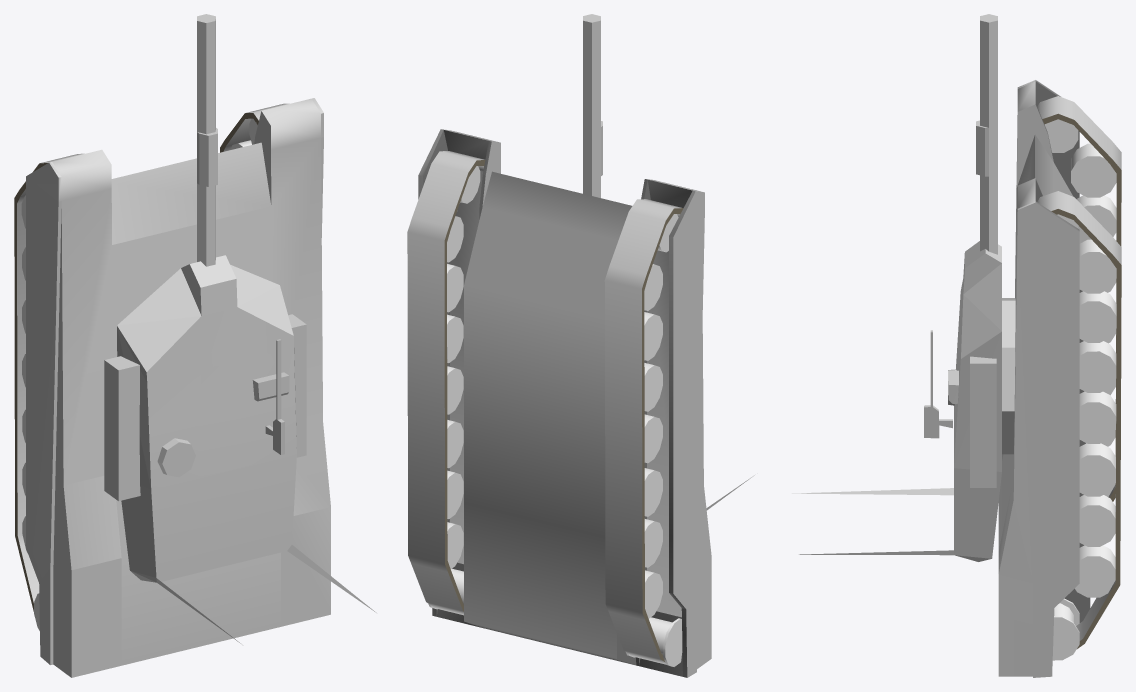
The picture shows the model from 3 angles, left to right: view 1: azimuth 30°, elevation 25°; view 2: azimuth 150°, elevation 25°; view 3: azimuth 270°, elevation 25°; orthographic projection. The views are drawn at different scales.
Parts seen in each view (by area): view 1: db_m1a1_p14432_Geometry_0.001, db_m1a1_d4_turtop_p13825_Geometry_0.001, db_m1a1_d4_turside_p13658_Geometry_0.001, db_m1a1_d4_tbox1_p13787_Geometry_0.001, db_m1a1_d4_d5_gun_p13728_Geometry_0.001, db_m1a1_trackg_track_p15181_Geometry_0.001, db_m1a1_d4_boot_p13746_Geometry_0.001, db_m1a1_trackg_track_p15205_Geometry_0.001, db_m1a1_d4_tbox2_p13793_Geometry_0.001, db_m1a1_d4_hatch1_p13763_Geometry_0.001, db_m1a1_wheelg_wheel_p14507_Geometry_0.001, db_m1a1_d4_mgun_p13805_Geometry_0.001 (+3 smaller); view 2: db_m1a1_p14432_Geometry_0.001, db_m1a1_trackg_track_p15181_Geometry_0.001, db_m1a1_wheelg_wheel_p14507_Geometry_0.001, db_m1a1_wheelg_o2656_p16248_Geometry_0.001, db_m1a1_p14333_Geometry_0.001, db_m1a1_wheelg_o2655_p15684_Geometry_0.001, db_m1a1_d4_d5_gun_p13728_Geometry_0.001, db_m1a1_trackg_track_p15205_Geometry_0.001, db_m1a1_p14495_Geometry_0.001; view 3: db_m1a1_p14432_Geometry_0.001, db_m1a1_wheelg_wheel_p14507_Geometry_0.001, db_m1a1_d4_turside_p13658_Geometry_0.001, db_m1a1_wheelg_o2656_p16248_Geometry_0.001, db_m1a1_d4_d5_gun_p13728_Geometry_0.001, db_m1a1_wheelg_o2655_p15684_Geometry_0.001, db_m1a1_trackg_track_p15205_Geometry_0.001, db_m1a1_trackg_track_p15181_Geometry_0.001, db_m1a1_d4_tbox2_p13793_Geometry_0.001, db_m1a1_d4_turbott_p13838_Geometry_0.001, db_m1a1_p14333_Geometry_0.001, db_m1a1_d4_boot_p13746_Geometry_0.001 (+3 smaller).
Part boxes in pixels (x1,y1,x2,y2): db_m1a1_p14432_Geometry_0.001: (26,98,330,677); db_m1a1_d4_turtop_p13825_Geometry_0.001: (146,307,296,581); db_m1a1_d4_turside_p13658_Geometry_0.001: (117,265,296,582); db_m1a1_d4_tbox1_p13787_Geometry_0.001: (104,356,140,501); db_m1a1_d4_d5_gun_p13728_Geometry_0.001: (197,14,217,266); db_m1a1_trackg_track_p15181_Geometry_0.001: (17,103,289,602); db_m1a1_d4_boot_p13746_Geometry_0.001: (181,255,237,315); db_m1a1_trackg_track_p15205_Geometry_0.001: (14,113,258,611); db_m1a1_d4_tbox2_p13793_Geometry_0.001: (288,314,306,457); db_m1a1_d4_hatch1_p13763_Geometry_0.001: (157,438,195,477); db_m1a1_wheelg_wheel_p14507_Geometry_0.001: (21,119,257,630); db_m1a1_d4_mgun_p13805_Geometry_0.001: (265,339,284,454); db_m1a1_p14432_Geometry_0.001: (443,129,711,677); db_m1a1_trackg_track_p15181_Geometry_0.001: (407,151,681,664); db_m1a1_wheelg_wheel_p14507_Geometry_0.001: (430,166,682,666); db_m1a1_wheelg_o2656_p16248_Geometry_0.001: (429,166,682,666); db_m1a1_p14333_Geometry_0.001: (418,129,695,677); db_m1a1_wheelg_o2655_p15684_Geometry_0.001: (428,171,677,660); db_m1a1_d4_d5_gun_p13728_Geometry_0.001: (583,14,602,197); db_m1a1_trackg_track_p15205_Geometry_0.001: (444,160,683,661); db_m1a1_p14495_Geometry_0.001: (418,175,673,593); db_m1a1_p14432_Geometry_0.001: (998,80,1090,677); db_m1a1_wheelg_wheel_p14507_Geometry_0.001: (1045,119,1116,660); db_m1a1_d4_turside_p13658_Geometry_0.001: (954,263,1001,561); db_m1a1_wheelg_o2656_p16248_Geometry_0.001: (1044,119,1116,660); db_m1a1_d4_d5_gun_p13728_Geometry_0.001: (976,14,997,254); db_m1a1_wheelg_o2655_p15684_Geometry_0.001: (1046,125,1116,654); db_m1a1_trackg_track_p15205_Geometry_0.001: (1042,113,1121,648); db_m1a1_trackg_track_p15181_Geometry_0.001: (1037,96,1121,640); db_m1a1_d4_tbox2_p13793_Geometry_0.001: (970,356,996,487); db_m1a1_d4_turbott_p13838_Geometry_0.001: (1002,298,1015,454); db_m1a1_p14333_Geometry_0.001: (1035,80,1090,622); db_m1a1_d4_boot_p13746_Geometry_0.001: (963,241,1001,293).
Bounding box in the file's own units: 4.42 × 10.04 × 5.08.
